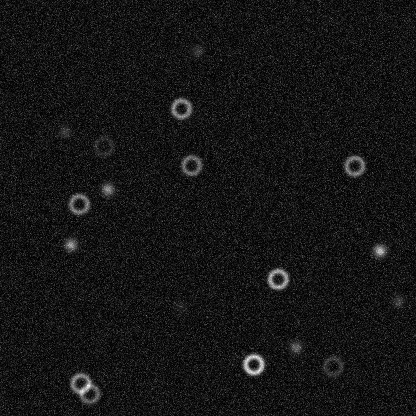Ring: (66, 191, 90, 215), (77, 381, 101, 405), (169, 96, 193, 120), (342, 153, 366, 177), (320, 354, 344, 378), (179, 153, 203, 177), (241, 352, 265, 376), (265, 266, 289, 290), (91, 134, 115, 158), (68, 371, 92, 395)
Spot: (99, 181, 115, 197), (371, 242, 387, 258), (287, 339, 303, 355), (171, 297, 187, 313), (56, 123, 72, 139), (62, 236, 78, 252), (189, 42, 205, 58), (390, 293, 406, 309)
